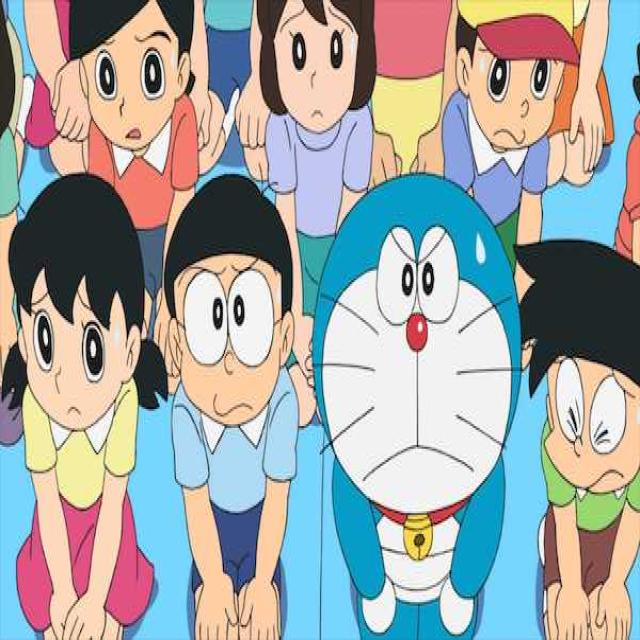doraemon: (303, 165, 533, 602)
nobita: (158, 153, 324, 479)
suneo: (498, 212, 639, 544)
